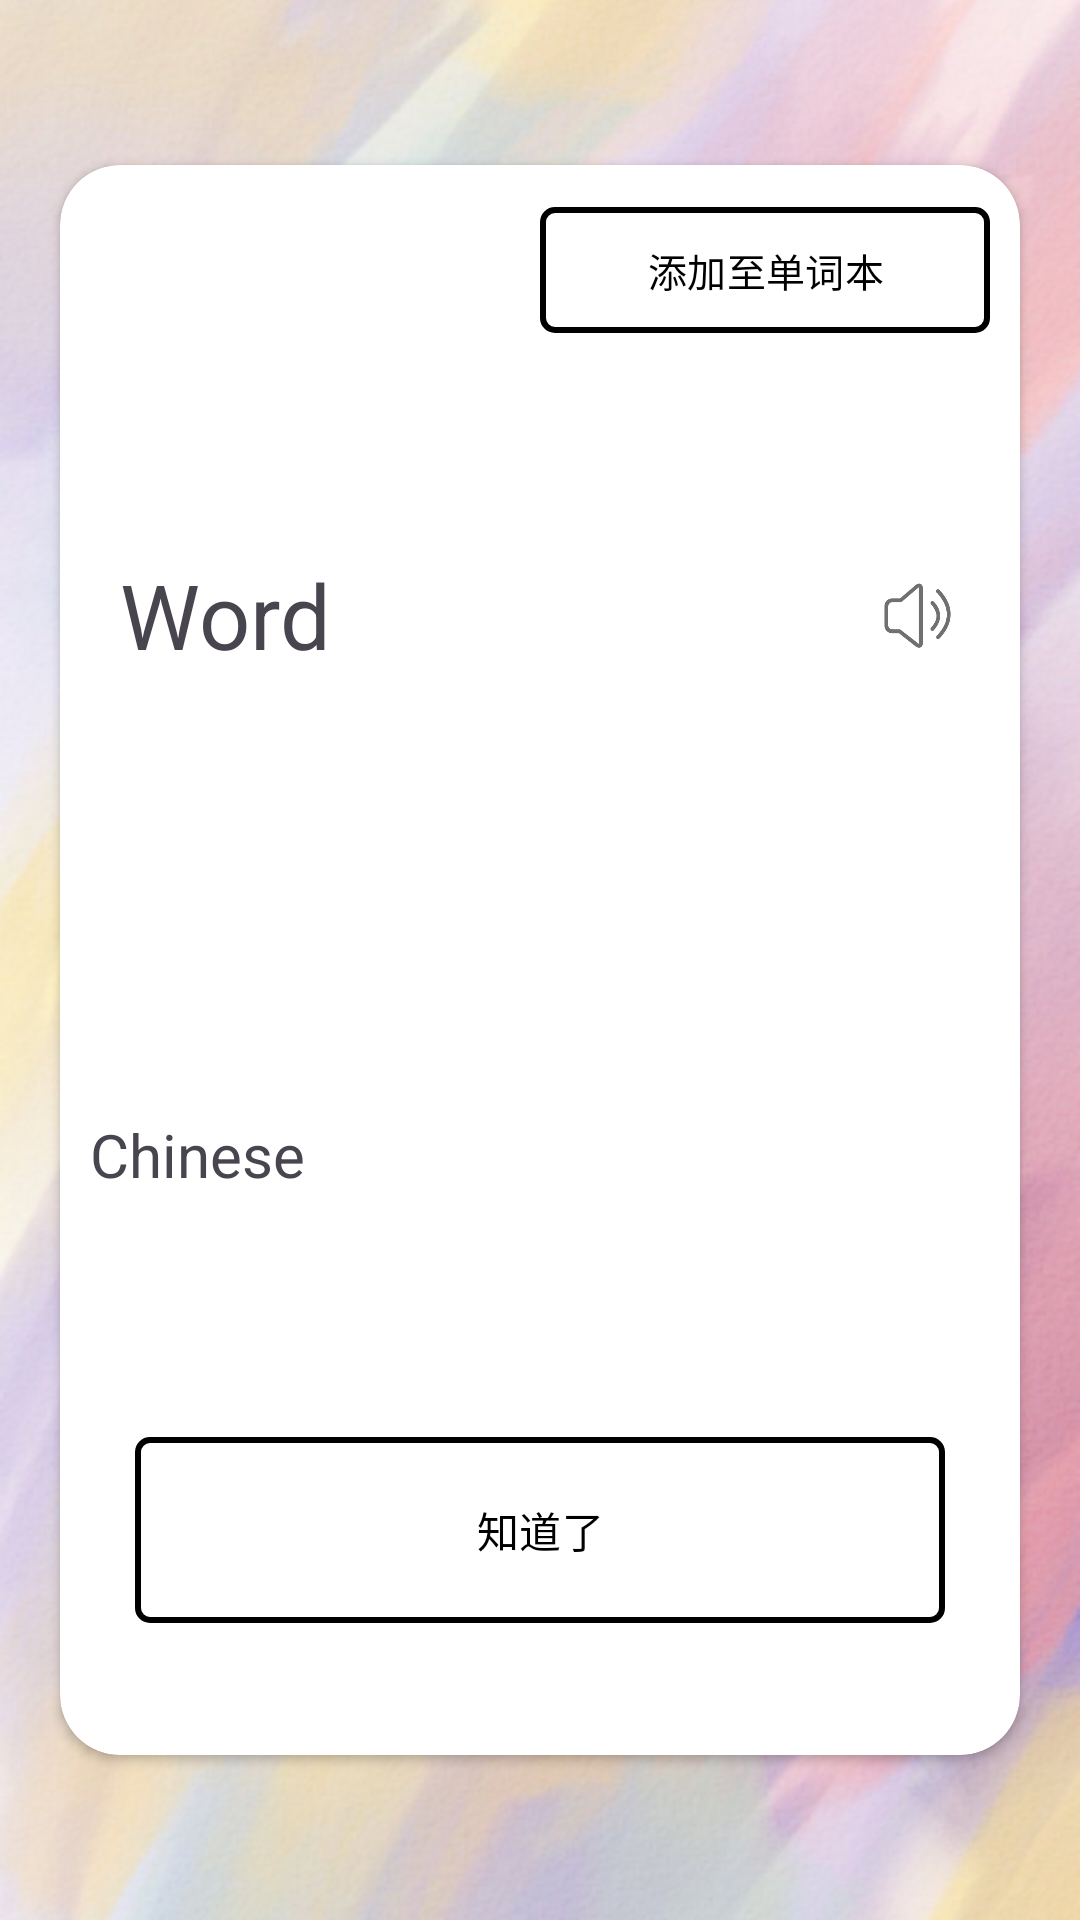

Screen size 1080x1920. Icon name, then its box in pixels as (x1, y1, x2, y2):
noice: (884, 583, 951, 648)
